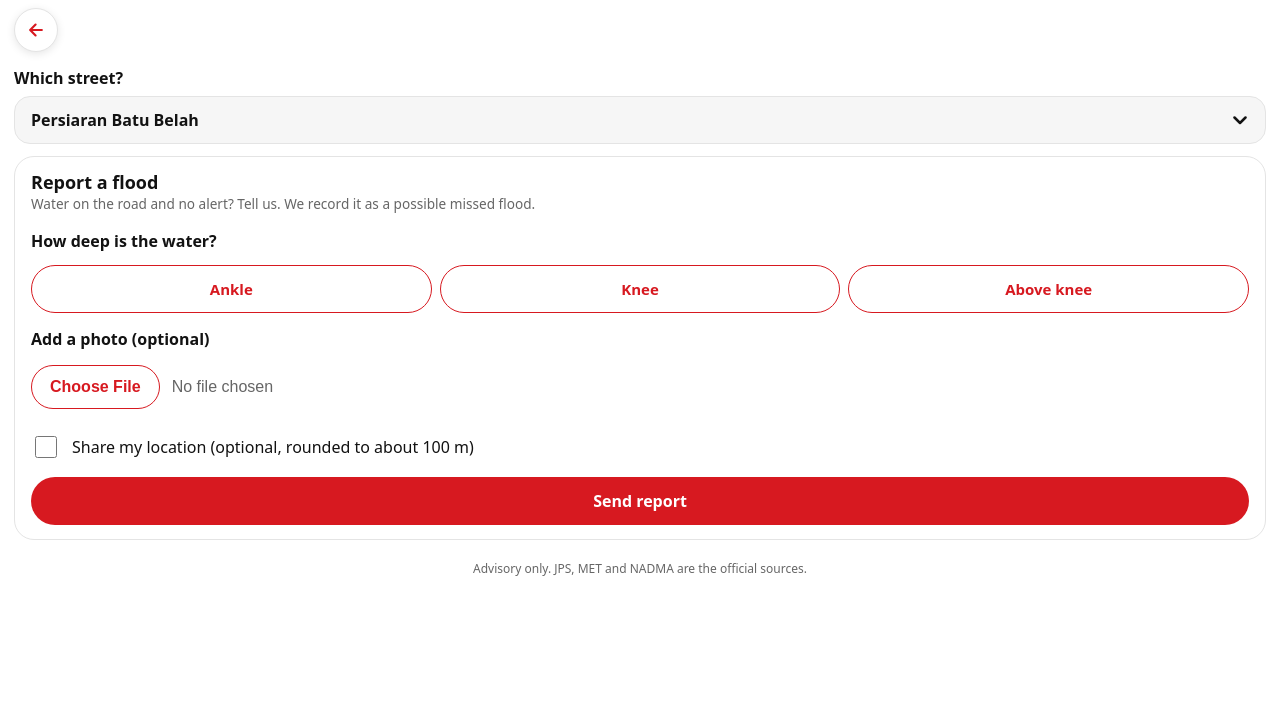
Test: ReportPage › reports a flood on the chosen street with no alert id, while no alert is active
The image size is (1280, 720).
expect the dropdown labelled "Which street?" shows "Persiaran Batu Belah": met, box [14,96,1266,144]
Click the button "Knee": (640, 289) [440,265,840,313]
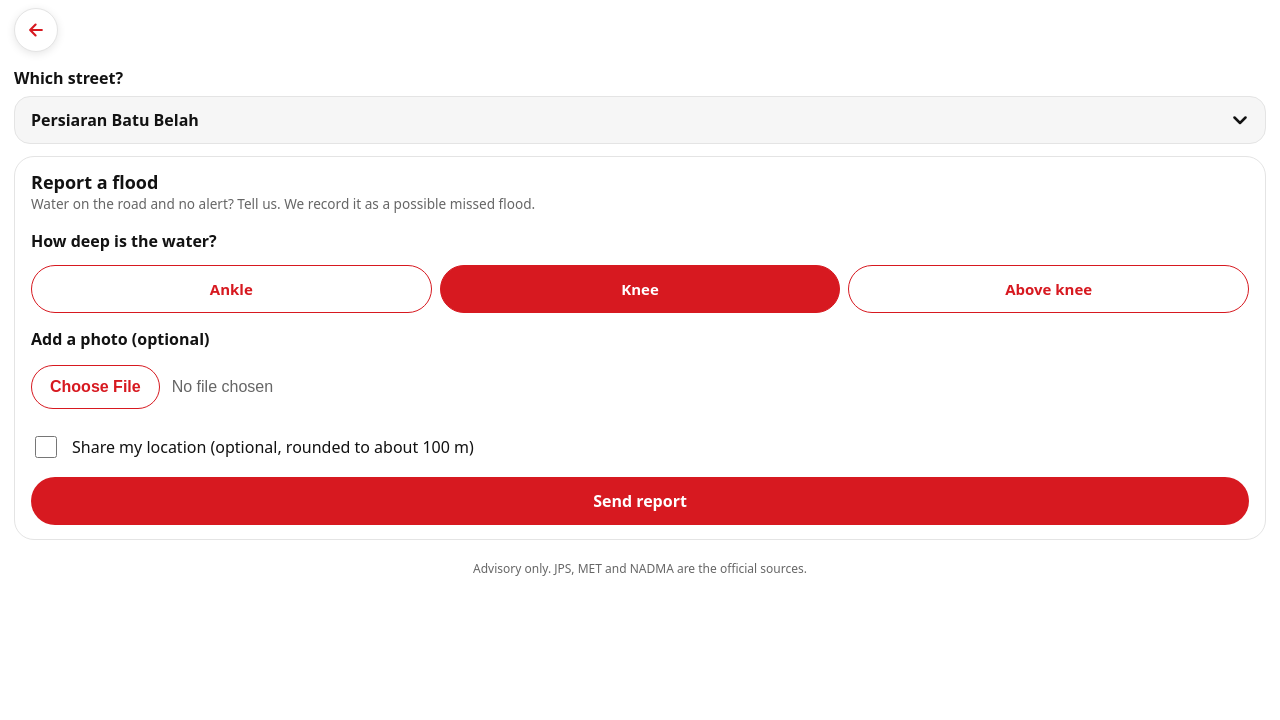
Click the button "Send report": (640, 501) [31,477,1249,525]
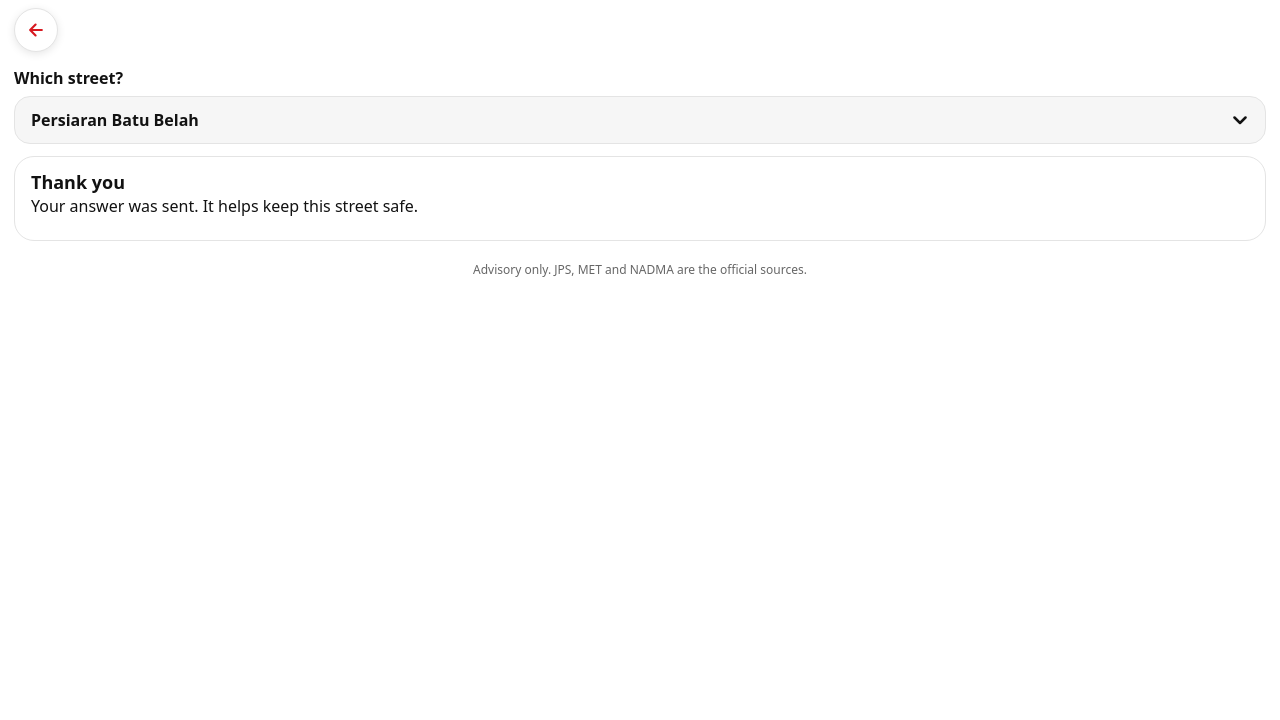
expect the heading "Thank you" is shown: met, box [31,170,125,194]
